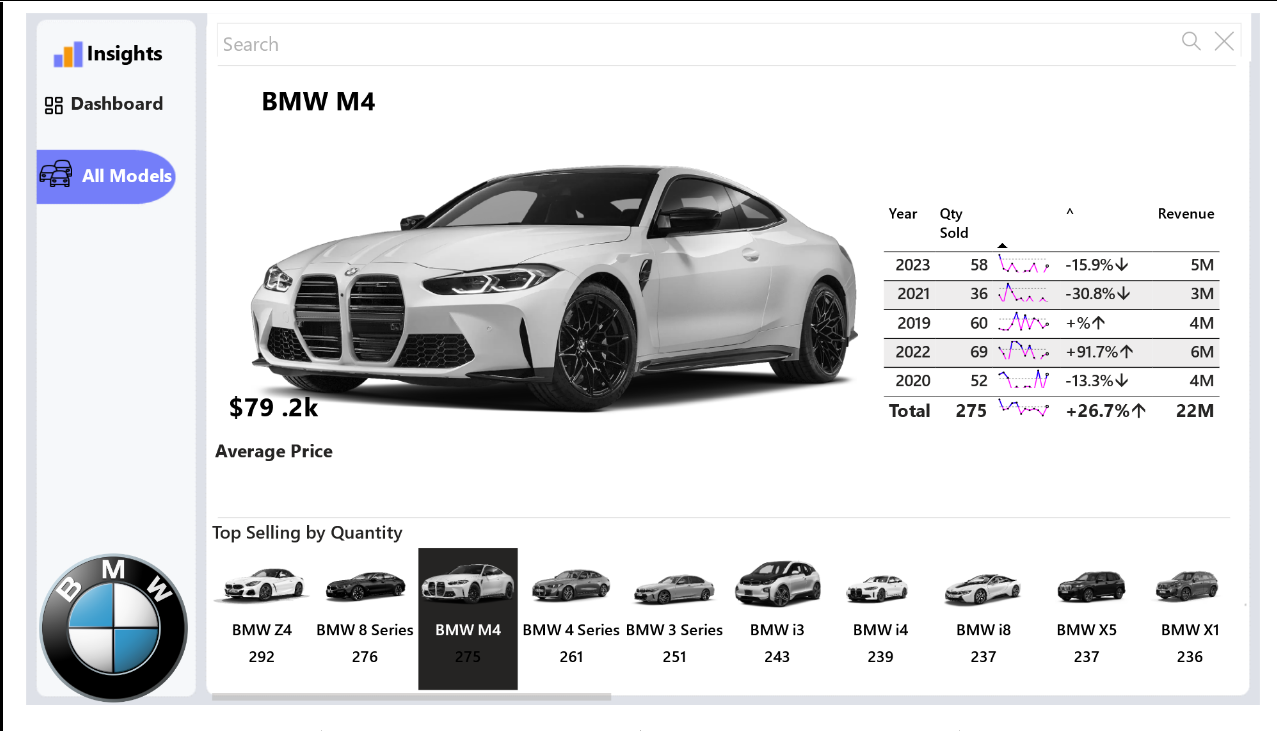

What the dashboard file says about the page in this screenshot:
{"tool":"powerbi","page":{"name":"All Models","canvas":[1280,720],"ordinal":1},"visuals":[{"type":"textSearchSlicerF85E2E78BE4A4D7D9F99ED75B5D71C85","fields":{"fields":["dimModel.Model"]},"box":[188.2,0,1082.9,50],"z":0},{"type":"advancedSlicerVisual","title":"Top Selling by Quantity ","fields":{"Values":["dimModel.Model"]},"box":[188.2,525,1082.9,194.7],"z":1000},{"type":"advancedSlicerVisual","title":"Top Selling by Quantity ","fields":{"Values":["dimModel.Model"]},"box":[188.2,50,720.7,475.3],"z":2000},{"type":"shape","box":[190.6,59.6,225.2,59.6],"z":3000},{"type":"shape","box":[159.2,385.5,194.7,40.8],"z":4000},{"type":"textbox","box":[190.8,435.5,152.6,47.4],"z":5000},{"type":"tableEx","title":"Qty Sold by Countries","fields":{"Values":["Calender.Year","All Measures.Quantity","All Measures.Quantity Sparkline","All Measures.Growth % with Arrow","All Measures.Revenue"]},"box":[883.9,190.6,387.2,334.8],"z":6000},{"type":"textbox","box":[52.6,150,127.6,57.9],"z":7000},{"type":"image","box":[9.2,140.8,43.4,50],"z":8000},{"type":"textbox","box":[40.8,75,118.4,42.1],"z":9000},{"type":"image","box":[9.2,80.3,39.5,31.6],"z":10000},{"type":"actionButton","box":[10.5,72.4,140.8,46.1],"z":11000},{"type":"actionButton","box":[0,140.8,159.2,50],"z":12000},{"type":"image","box":[0,555.3,180.3,164.5],"z":13000},{"type":"textbox","box":[58.4,20,115.8,46.1],"z":14000},{"type":"image","box":[17.6,20,50,43.4],"z":15000}]}

Visuals, with their boxes on the page's 1280x720 design canvas (x1, y1, x2, y2). These are canvas units, not pixel positions in the 1277x731 screenshot, which may show the page scaled, cropped or inside an application window:
textSearchSlicerF85E2E78BE4A4D7D9F99ED75B5D71C85 - dimModel.Model: x1=188 y1=0 x2=1271 y2=50
"Top Selling by Quantity " advancedSlicerVisual: x1=188 y1=525 x2=1271 y2=720
"Top Selling by Quantity " advancedSlicerVisual: x1=188 y1=50 x2=909 y2=525
shape: x1=191 y1=60 x2=416 y2=119
shape: x1=159 y1=386 x2=354 y2=426
textbox: x1=191 y1=436 x2=343 y2=483
"Qty Sold by Countries" tableEx: x1=884 y1=191 x2=1271 y2=525
textbox: x1=53 y1=150 x2=180 y2=208
image: x1=9 y1=141 x2=53 y2=191
textbox: x1=41 y1=75 x2=159 y2=117
image: x1=9 y1=80 x2=49 y2=112
actionButton: x1=10 y1=72 x2=151 y2=118
actionButton: x1=0 y1=141 x2=159 y2=191
image: x1=0 y1=555 x2=180 y2=720
textbox: x1=58 y1=20 x2=174 y2=66
image: x1=18 y1=20 x2=68 y2=63
